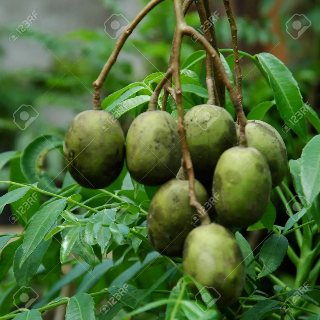coc: (62, 107, 125, 189), (213, 144, 268, 227), (124, 109, 181, 184)
